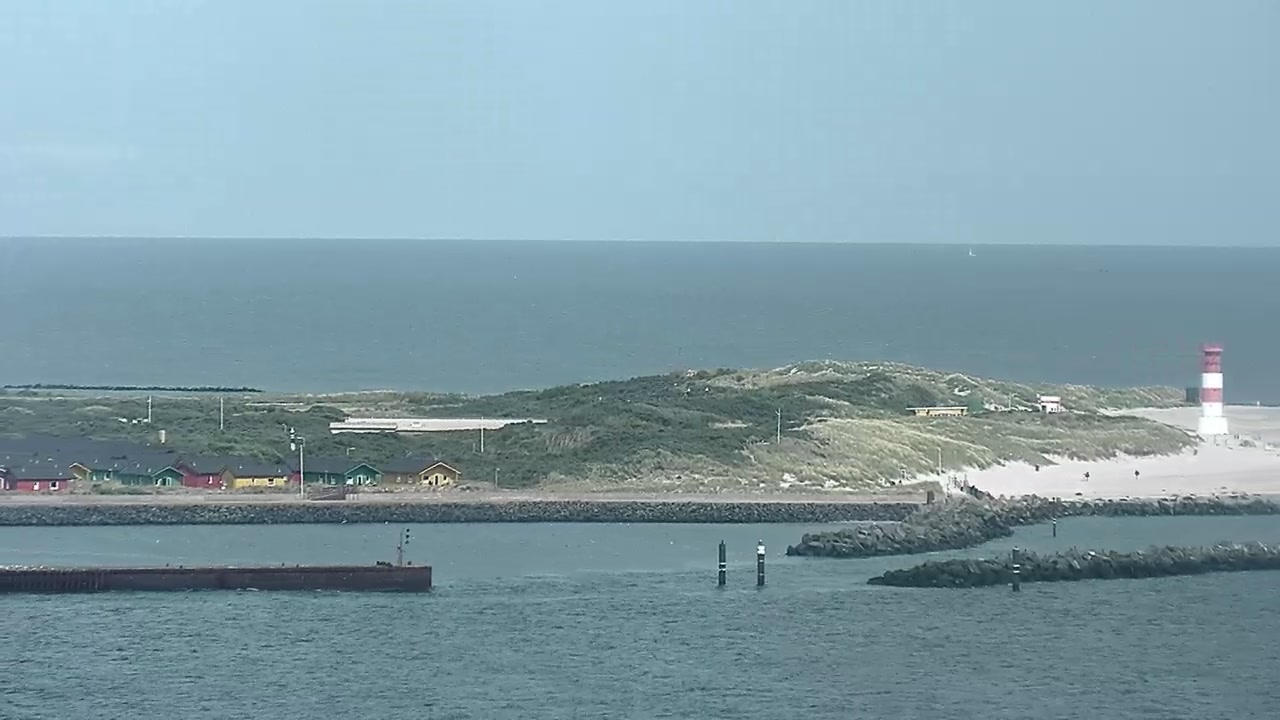human: (1082, 471, 1090, 482), (1134, 469, 1140, 479), (1034, 464, 1040, 473)
sea: (969, 247, 976, 256)
